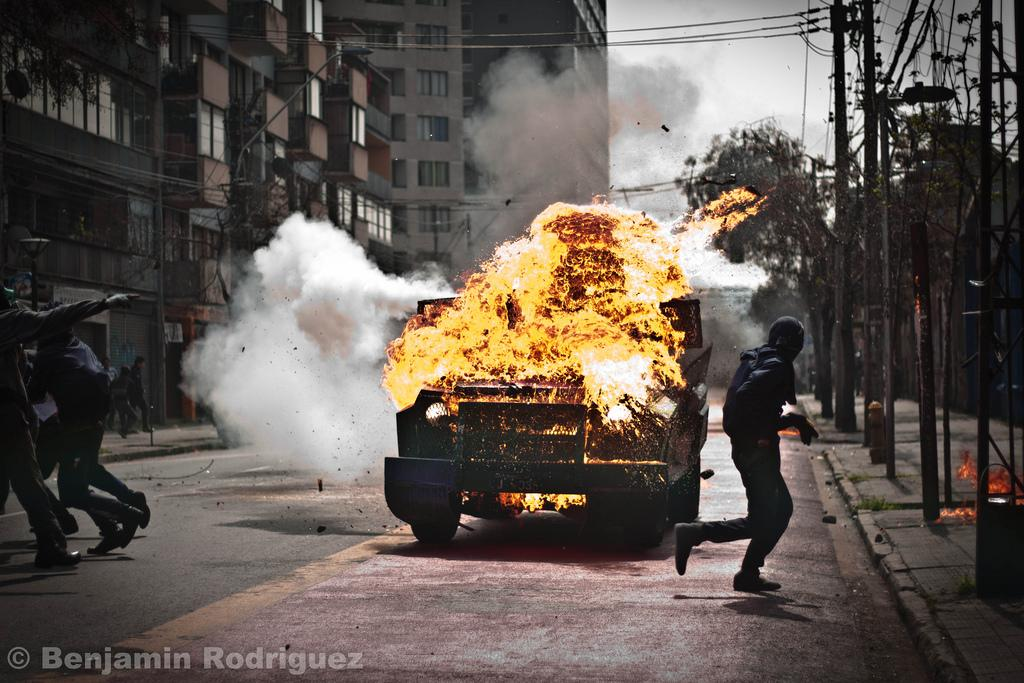fire: (450, 228, 692, 370)
